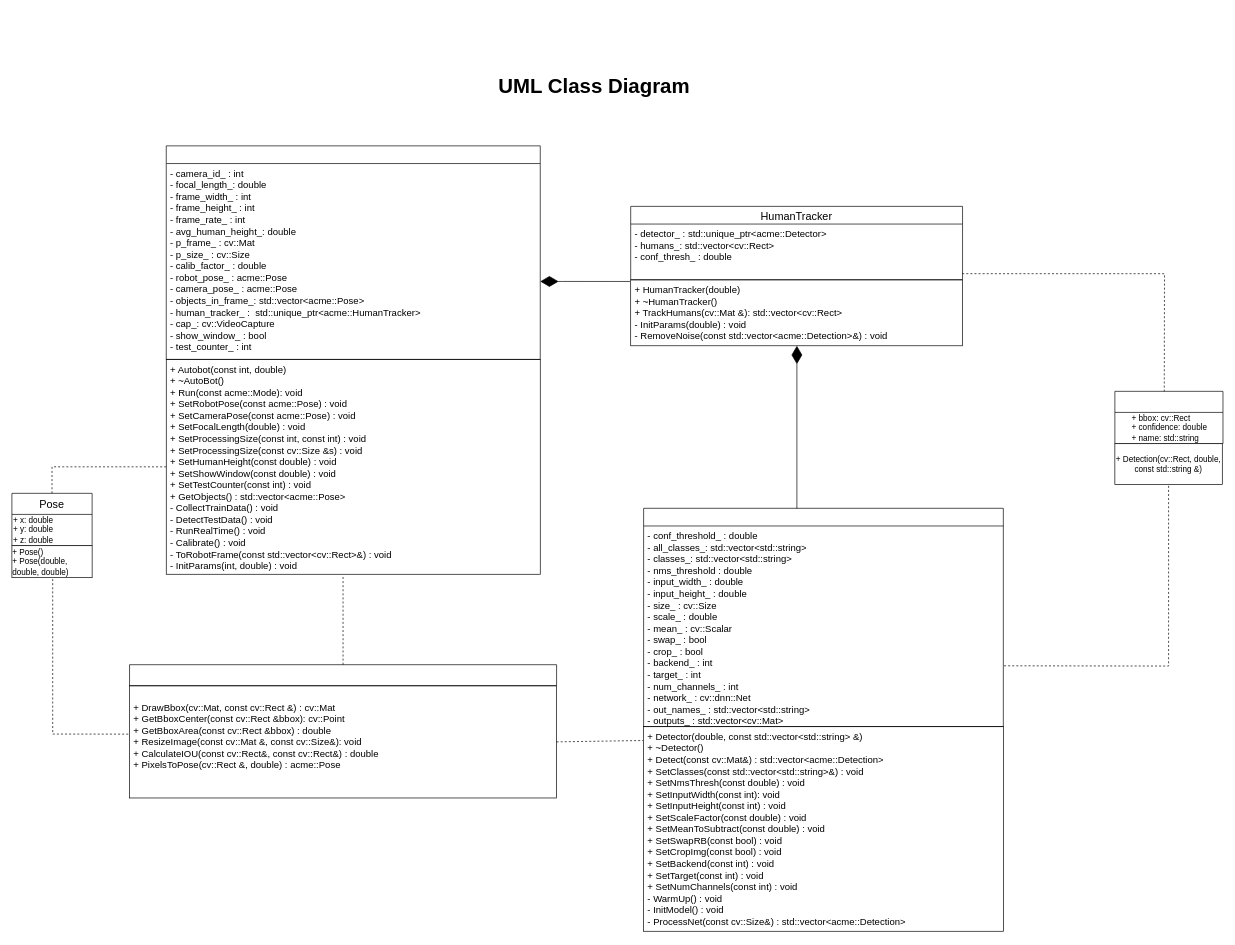
Some shapes in this 1235 by 945 pixel diagram are drawn without their labels. Here are the shapes that lost their labels. From the top down, the box of each, then its label:
(166, 145, 540, 359): AutoBot
(1114, 391, 1223, 444): Detection
(643, 508, 1003, 727): Detector
(129, 664, 557, 686): Utils
